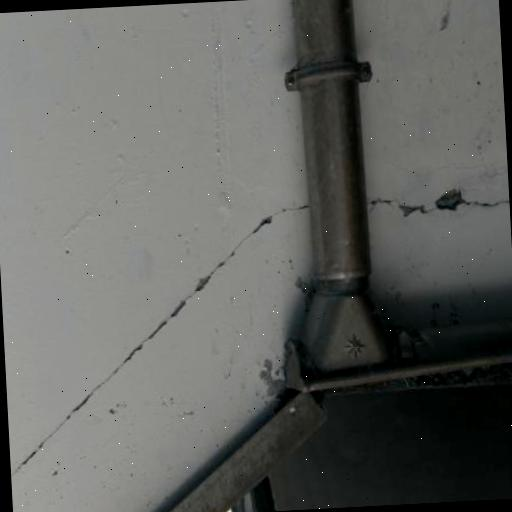spalling: (11, 203, 309, 478), (370, 191, 507, 221)
